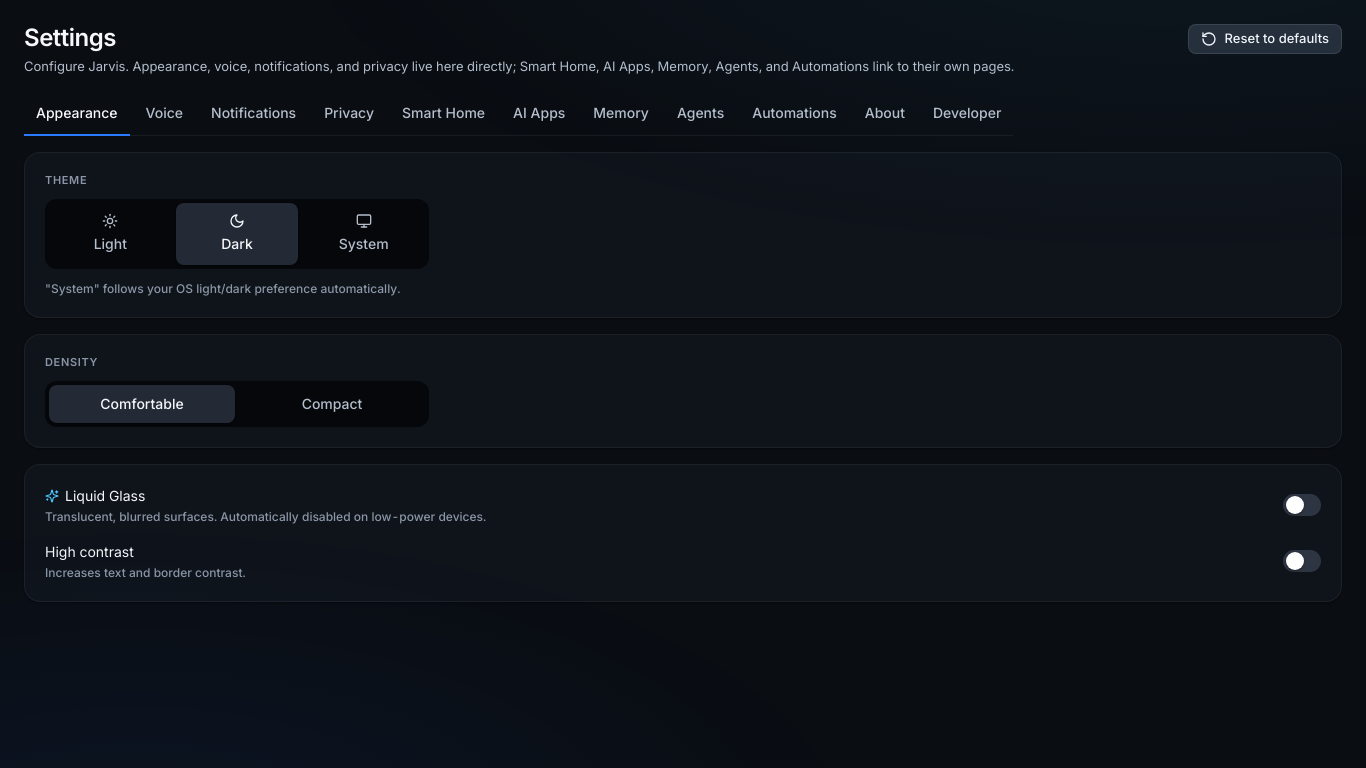
SettingsPage › Reset settings restores the notification default via the confirmation modal
Check: the element with test id "settings-appearance" is shown, box [24,152,1342,602]
Click the tab with test id "settings-tab-notifications" at (254,114), box [199,92,308,136]
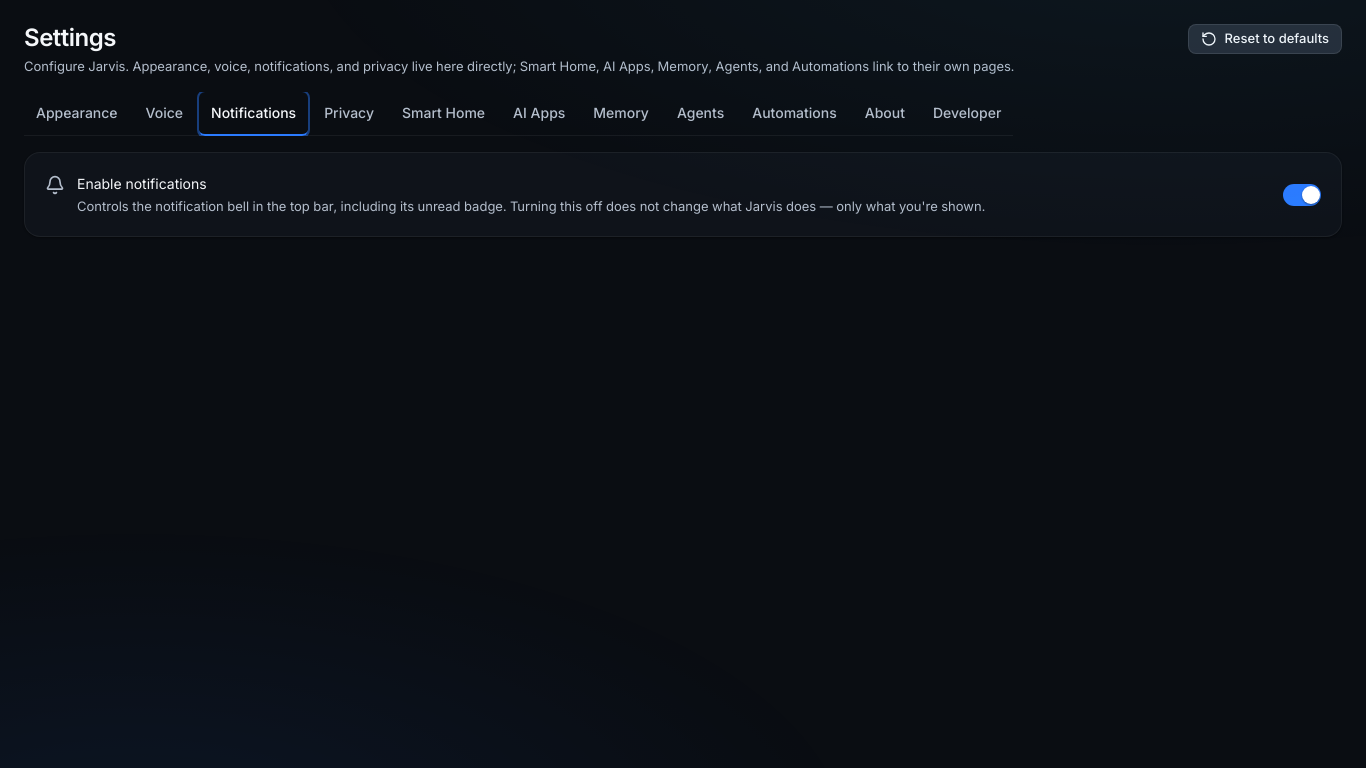
Click the switch with test id "settings-notifications-toggle" at (1302,195), box [1283,184,1321,206]
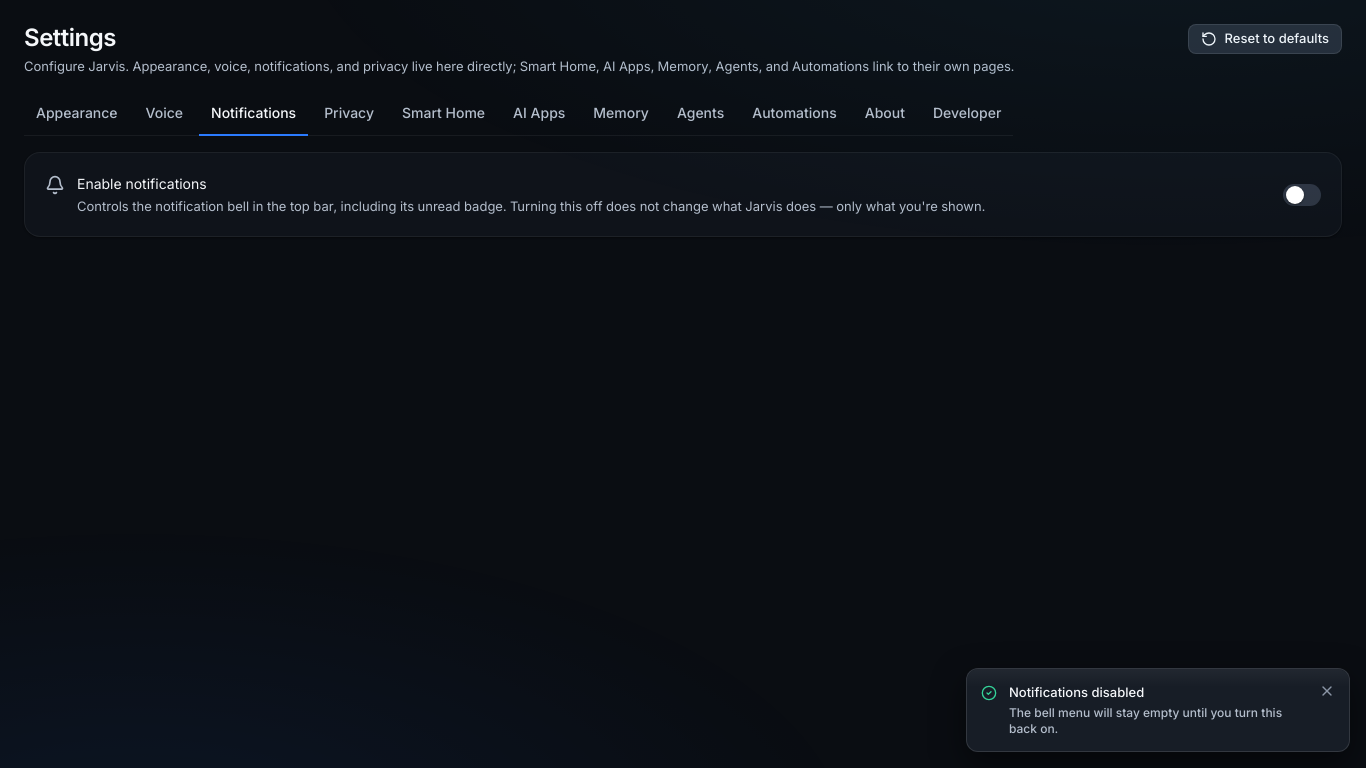
Check: the switch with test id "settings-notifications-toggle" has attribute data-state="unchecked", box [1283,184,1321,206]
Click the button with test id "settings-reset-button" at (1265,39), box [1188,24,1342,54]
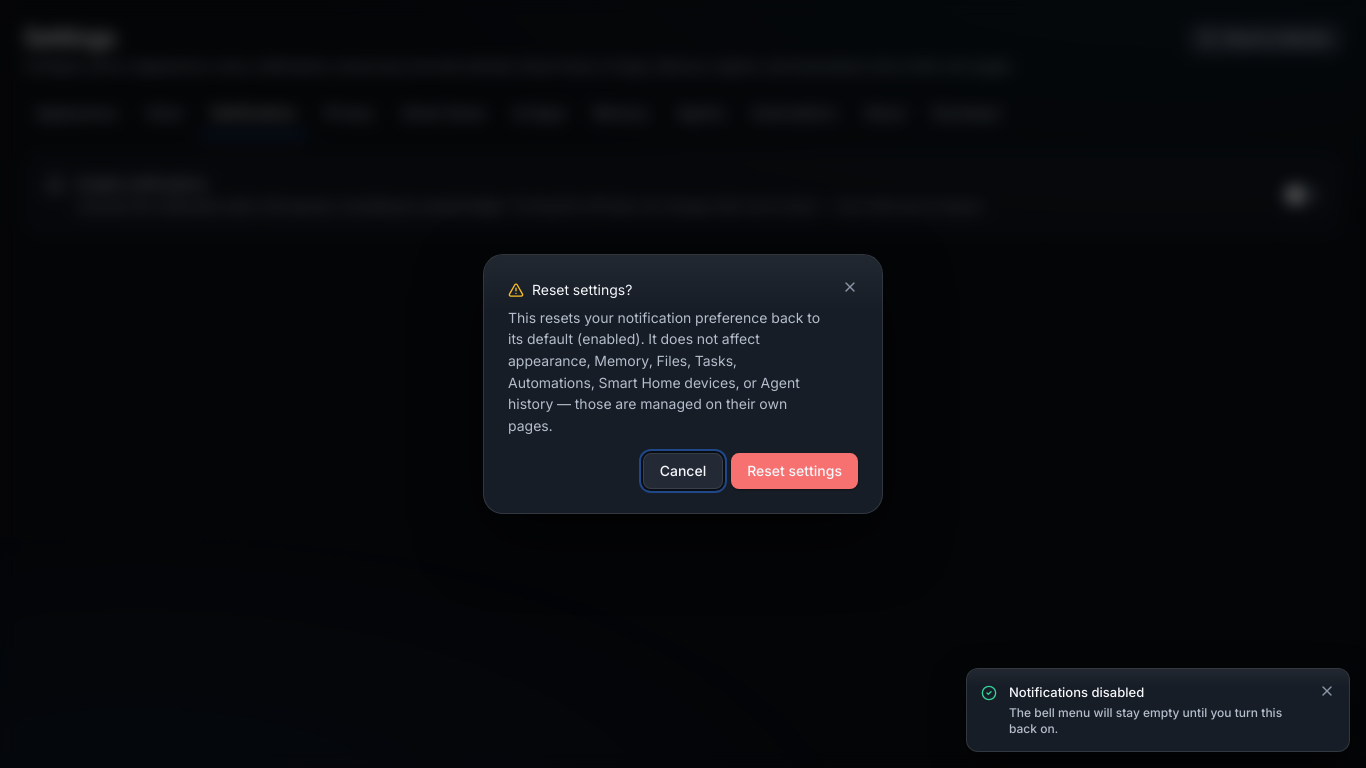
Check: the heading "Reset settings?" is shown, box [508,281,632,298]
Click the button with test id "settings-reset-confirm" at (795,471), box [731,453,858,489]
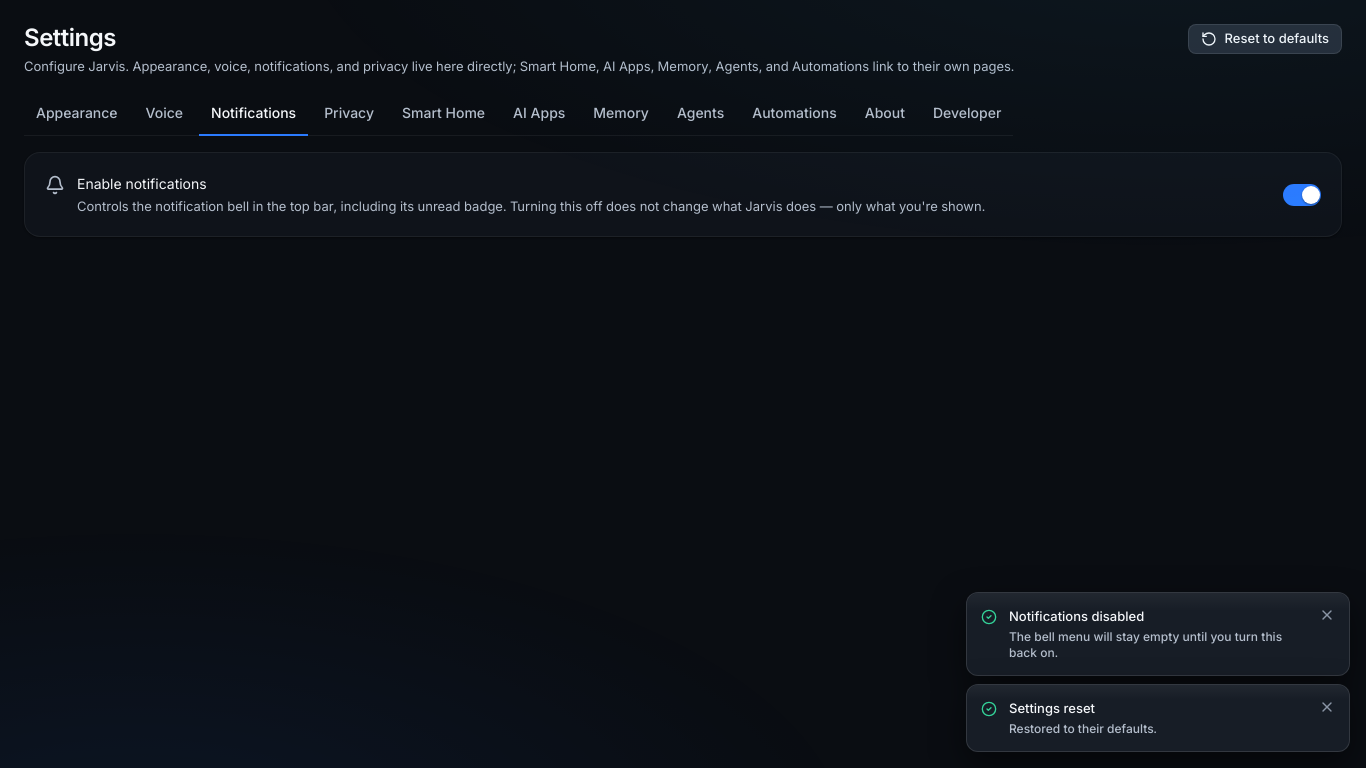
Check: the text "Settings reset" is shown, box [1009,700,1095,716]
